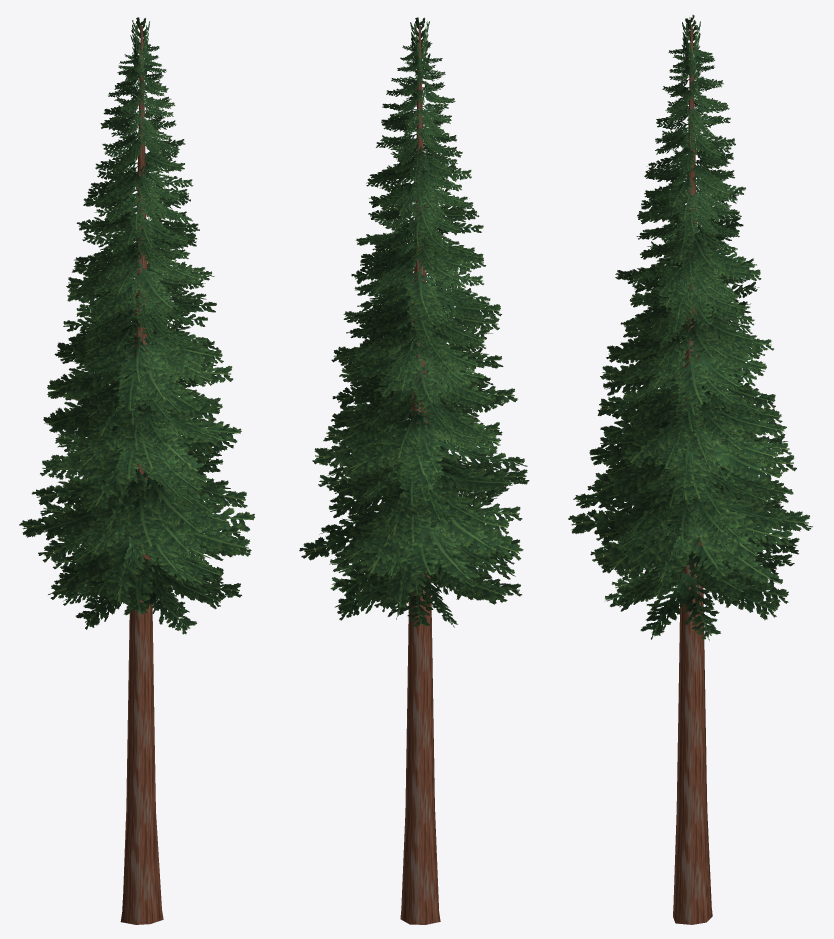
File: Sugi_C.fbx
The picture shows the model from 3 angles, left to right: view 1: azimuth 30°, elevation 25°; view 2: azimuth 150°, elevation 25°; view 3: azimuth 270°, elevation 25°; orthographic projection.
Visible parts, largest first — view 1: Sugi_C_LOD0; view 2: Sugi_C_LOD0; view 3: Sugi_C_LOD0.
Part boxes in pixels (x1=…): Sugi_C_LOD0: x1=19, y1=17, x2=254, y2=924; Sugi_C_LOD0: x1=299, y1=17, x2=529, y2=924; Sugi_C_LOD0: x1=568, y1=15, x2=812, y2=924.
Size of what is drawn, in the model's own units: 4.64 by 19.09 by 4.93.
2 materials, 2 textured.
